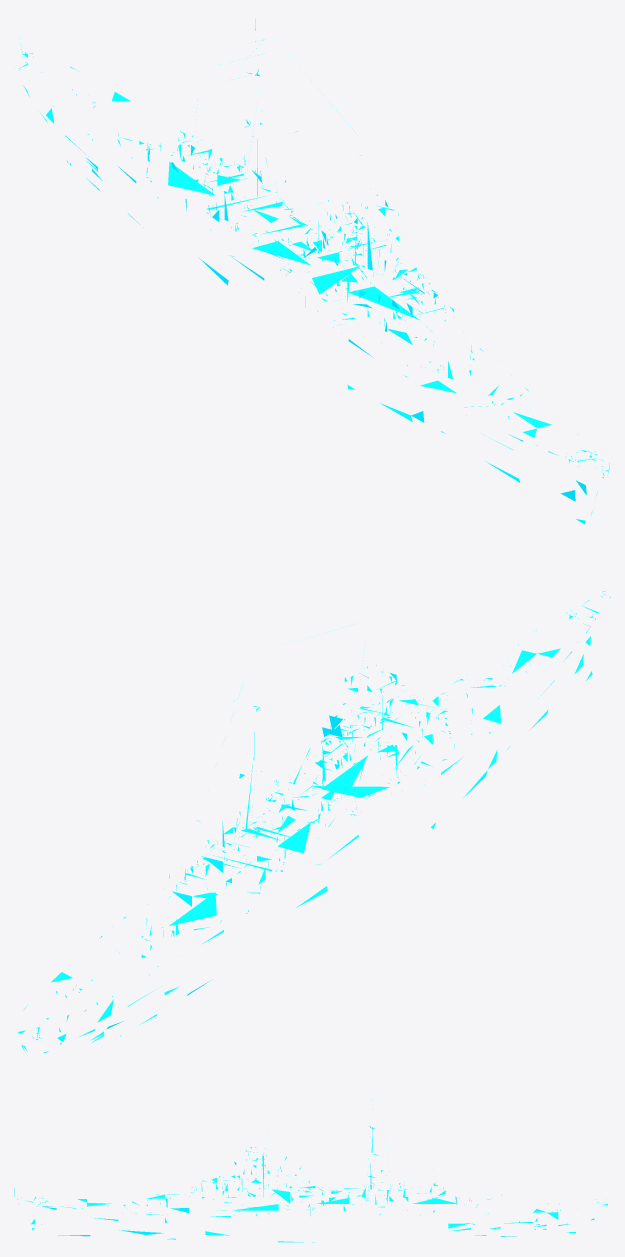
The model's file is Prinz_Eugen.glb.
3 renders of one model, top to bottom at view 1: azimuth 30°, elevation 25°; view 2: azimuth 150°, elevation 25°; view 3: azimuth 270°, elevation 25°, orthographic. The views are drawn at different scales.
Size of the model in its own units: 1.43 by 3.64 by 14.23.
